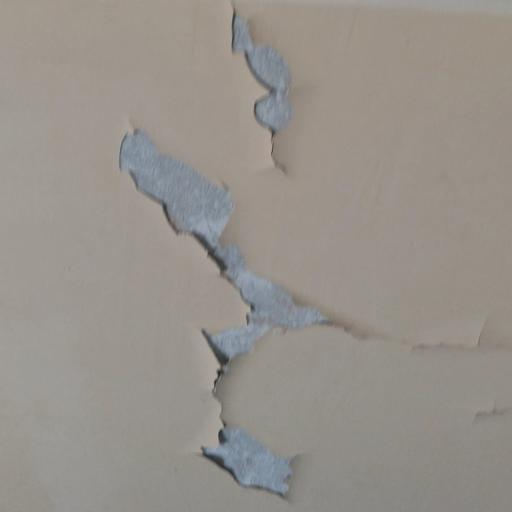peeling: (101, 106, 342, 496), (212, 0, 320, 181)
